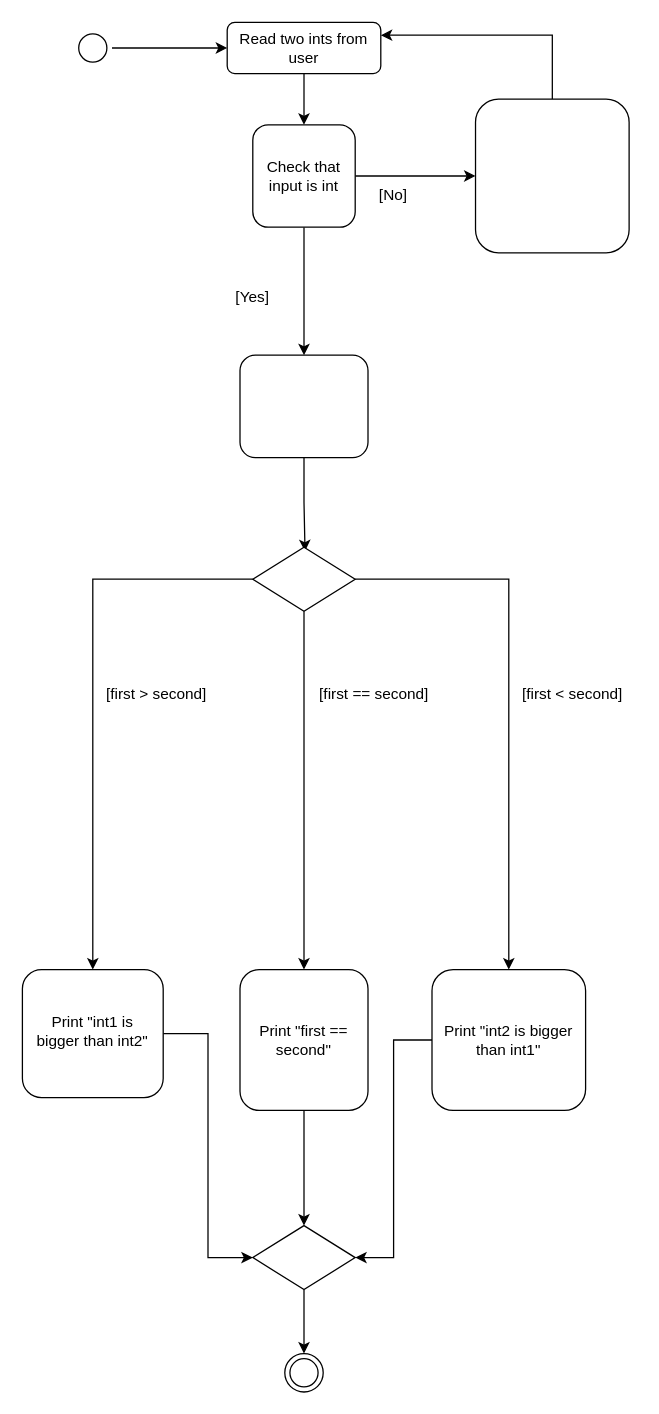
The diagram is 659 pixels wide and 1414 high, and some of its shapes have lost their labels. The centre of each missing label's shape, as x and y in pixels:
Eval both inputs: point (303, 406)
Print "Please enter integer values only": point (551, 175)
